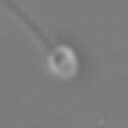normal: (2, 1, 52, 46)
